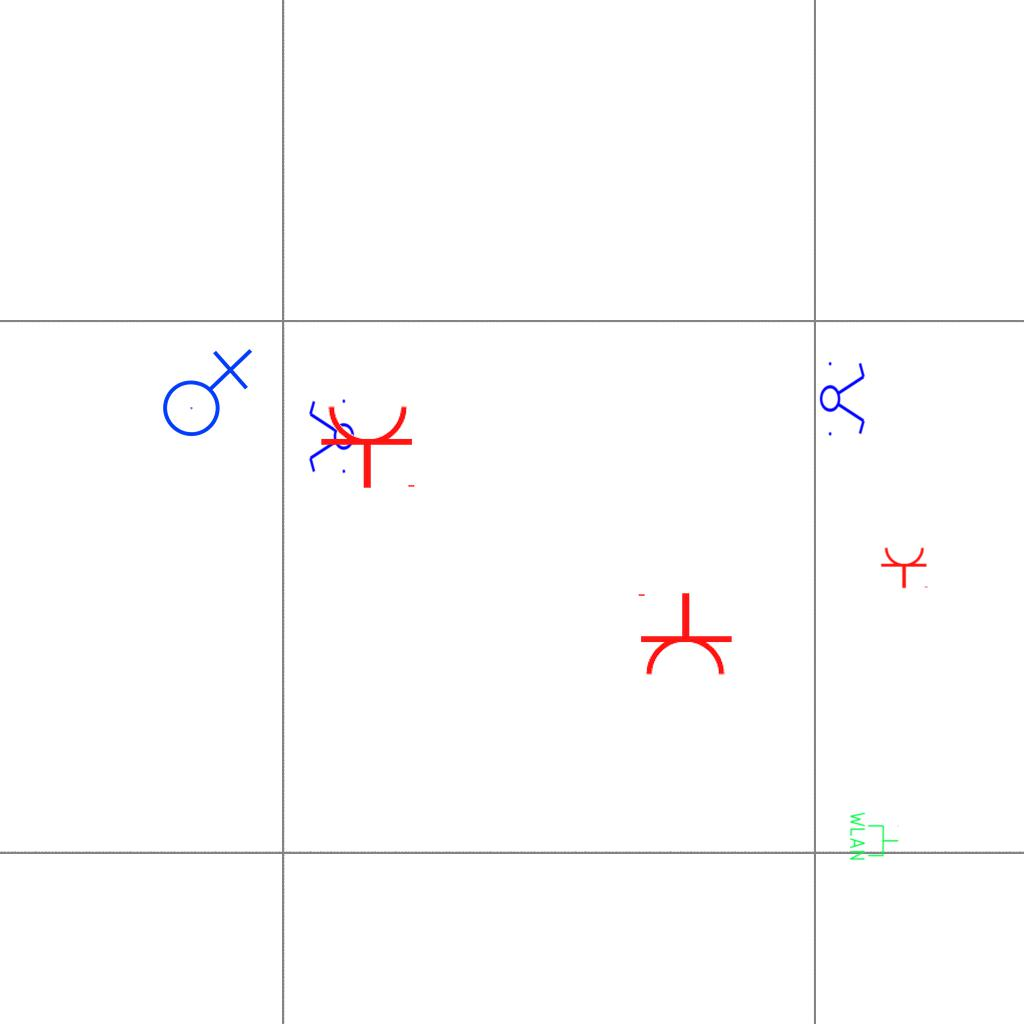Elektroanschluss_allgemein_230V_Geraeteanschlussdose_230V: (154, 344, 253, 438)
Schukosteckdose_einfach: (634, 591, 734, 678), (319, 403, 419, 490), (880, 546, 930, 589)
Serienschalter: (819, 356, 867, 440), (307, 395, 355, 479)
WLAN: (848, 810, 900, 862)
